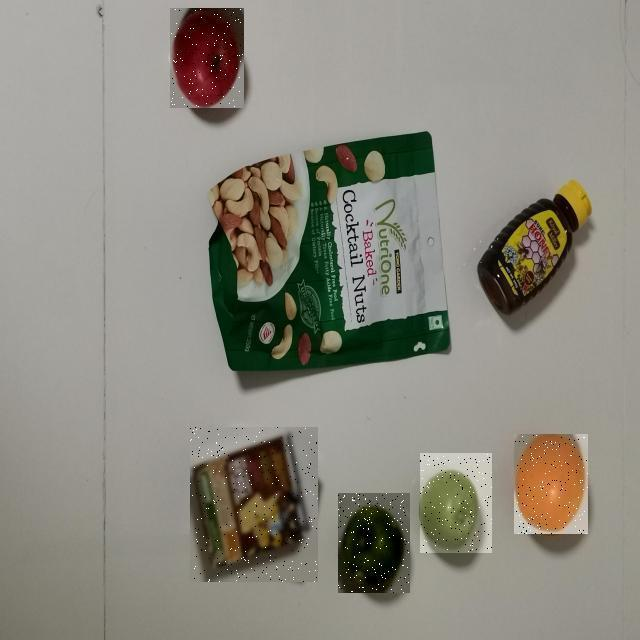Apple: (170, 9, 244, 109), (338, 493, 410, 593), (420, 453, 492, 553)
Cereal: (190, 427, 318, 582)
Orange: (514, 435, 588, 535)
